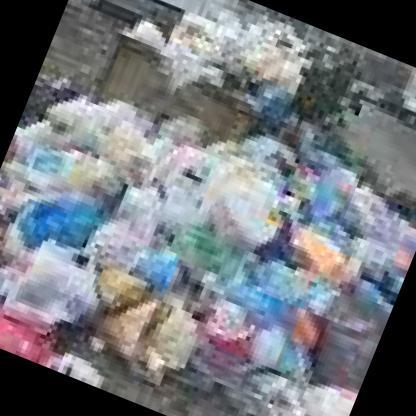Garbage: (0, 110, 407, 415), (67, 268, 207, 400), (162, 0, 323, 110), (0, 225, 130, 356), (186, 161, 294, 259), (96, 233, 192, 333), (170, 332, 276, 415), (96, 154, 191, 237), (15, 176, 99, 266), (88, 107, 172, 196), (290, 153, 369, 236), (344, 216, 415, 301), (186, 284, 262, 360), (292, 223, 372, 294), (265, 362, 358, 415), (38, 79, 104, 138), (228, 34, 297, 90), (130, 246, 182, 303), (127, 12, 170, 46)
